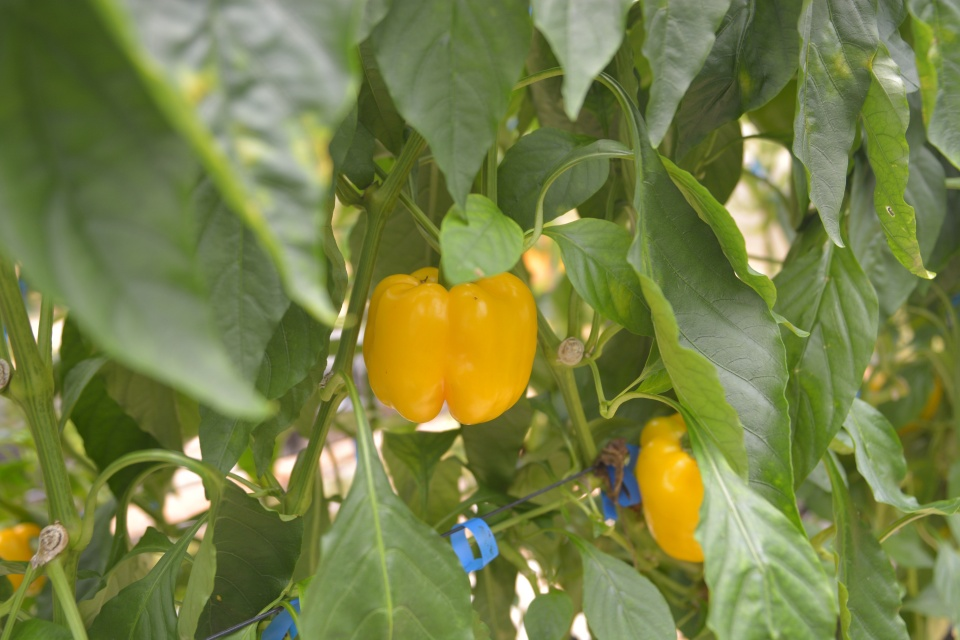fruit: (359, 264, 542, 429), (634, 409, 707, 565), (0, 518, 50, 601)
